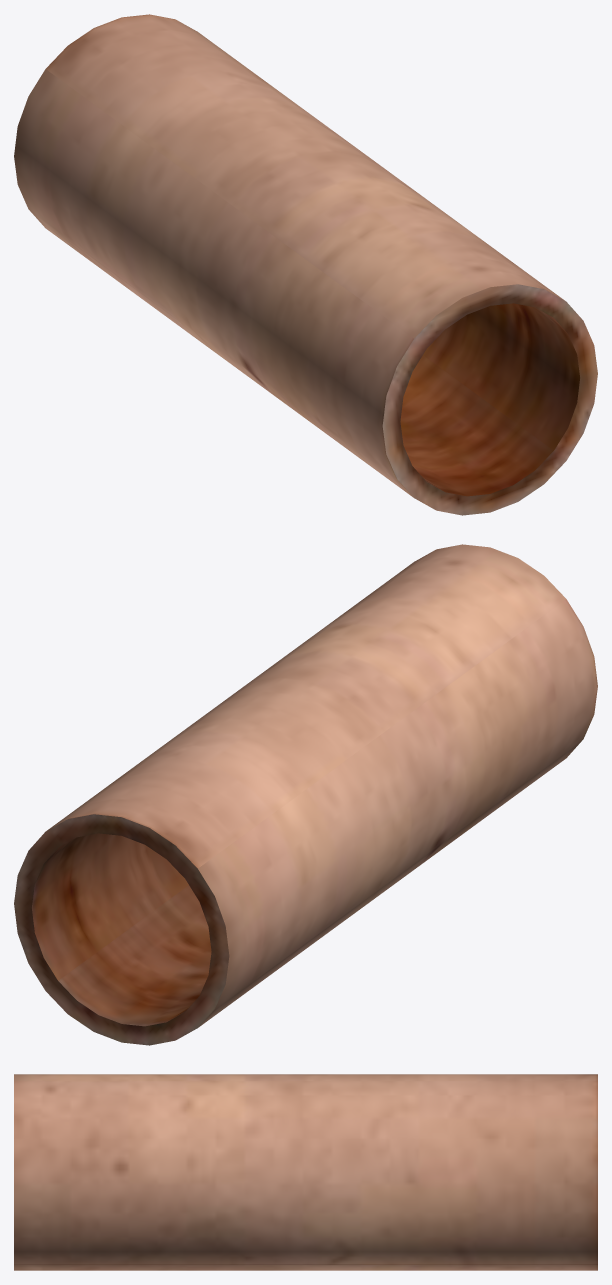
The model's file is small_copper_pipe_05.glb.
3 renders of one model, top to bottom at view 1: azimuth 30°, elevation 25°; view 2: azimuth 150°, elevation 25°; view 3: azimuth 270°, elevation 25°, orthographic. The views are drawn at different scales.
Visible parts, largest first — view 1: small_copper_pipe_05; view 2: small_copper_pipe_05; view 3: small_copper_pipe_05.
Boxes of the visible parts, x1=… form: small_copper_pipe_05: x1=14, y1=14, x2=597, y2=515; small_copper_pipe_05: x1=14, y1=544, x2=597, y2=1045; small_copper_pipe_05: x1=14, y1=1074, x2=597, y2=1270.
Size of what is drawn, in the model's own units: 0.0202 by 0.0202 by 0.06.
Materials: 1 (1 with a texture image).
